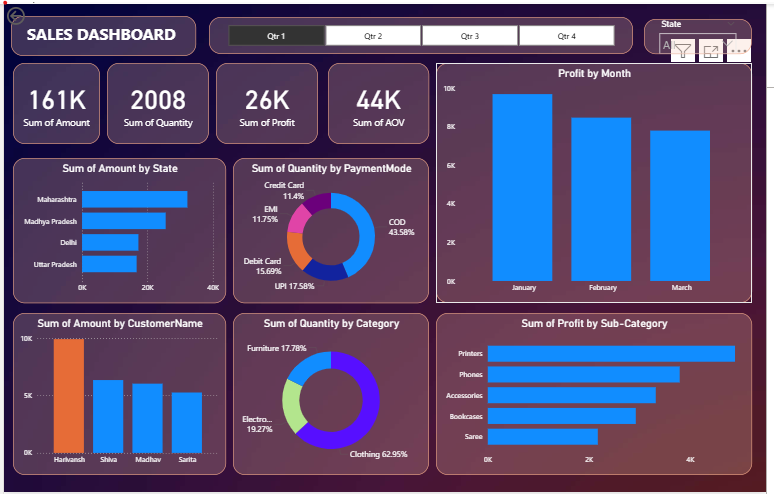

The dashboard page shown, as its layout file describes it:
{"tool":"powerbi","page":{"name":"Page 1","canvas":[1280,820],"ordinal":0},"visuals":[{"type":"textbox","box":[11.8,20.2,310.8,67.2],"z":0},{"type":"columnChart","title":"Profit by Month","fields":{"Category":["Orders.Order Date.Variation.Date Hierarchy.Month"],"Y":["Sum(Details.Profit)"]},"box":[725.7,99.1,530.8,403.1],"z":1000},{"type":"barChart","fields":{"Category":["Details.Sub-Category"],"Y":["Sum(Details.Profit)"]},"box":[725.7,519.1,530.8,272.1],"z":2000},{"type":"donutChart","fields":{"Category":["Details.Category"],"Y":["Sum(Details.Quantity)"]},"box":[384.7,519.1,329.2,272.1],"z":3000},{"type":"donutChart","fields":{"Category":["Details.PaymentMode"],"Y":["Sum(Details.Quantity)"]},"box":[384.7,258.7,329.2,243.6],"z":4000},{"type":"card","fields":{"Values":["Sum(Details.Amount)"]},"box":[15.1,99.1,146.1,136.1],"z":5000},{"type":"actionButton","box":[0,0,100,40],"z":6000},{"type":"card","fields":{"Values":["Sum(Details.Quantity)"]},"box":[173,99.1,171.3,136.1],"z":7000},{"type":"card","fields":{"Values":["Sum(Details.Profit)"]},"box":[356.1,99.1,171.3,136.1],"z":8000},{"type":"card","fields":{"Values":["Sum(Details.AOV)"]},"box":[544.3,99.1,169.7,136.1],"z":9000},{"type":"barChart","fields":{"Category":["Orders.State"],"Y":["Sum(Details.Amount)"]},"box":[15.1,258.7,357.8,243.6],"z":10000},{"type":"slicer","fields":{"Values":["Orders.Order Date.Variation.Date Hierarchy.Quarter"]},"box":[344.4,21.8,712.2,62.2],"z":10001},{"type":"slicer","fields":{"Values":["Orders.State"]},"box":[1075.1,25.2,181.4,58.8],"z":10002},{"type":"columnChart","fields":{"Category":["Orders.CustomerName"],"Y":["Sum(Details.Amount)"]},"box":[15,519,358,272],"z":10003}]}

Visuals, with their boxes in screenshot pixels (x1, y1, x2, y2), scaled from the page's 1280x820 canvas onto the 774x494 screenshot:
textbox: bbox=(7, 12, 195, 53)
"Profit by Month" columnChart: bbox=(439, 60, 760, 303)
barChart - Details.Sub-Category x Sum(Details.Profit): bbox=(439, 313, 760, 477)
donutChart - Details.Category x Sum(Details.Quantity): bbox=(233, 313, 432, 477)
donutChart - Details.PaymentMode x Sum(Details.Quantity): bbox=(233, 156, 432, 303)
card - Sum(Details.Amount): bbox=(9, 60, 97, 142)
actionButton: bbox=(0, 0, 60, 24)
card - Sum(Details.Quantity): bbox=(105, 60, 208, 142)
card - Sum(Details.Profit): bbox=(215, 60, 319, 142)
card - Sum(Details.AOV): bbox=(329, 60, 432, 142)
barChart - Orders.State x Sum(Details.Amount): bbox=(9, 156, 225, 303)
slicer - Orders.Order Date.Variation.Date Hierarchy.Quarter: bbox=(208, 13, 639, 51)
slicer - Orders.State: bbox=(650, 15, 760, 51)
columnChart - Orders.CustomerName x Sum(Details.Amount): bbox=(9, 313, 226, 477)
